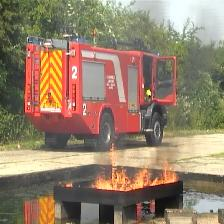fire: (93, 143, 178, 191)
